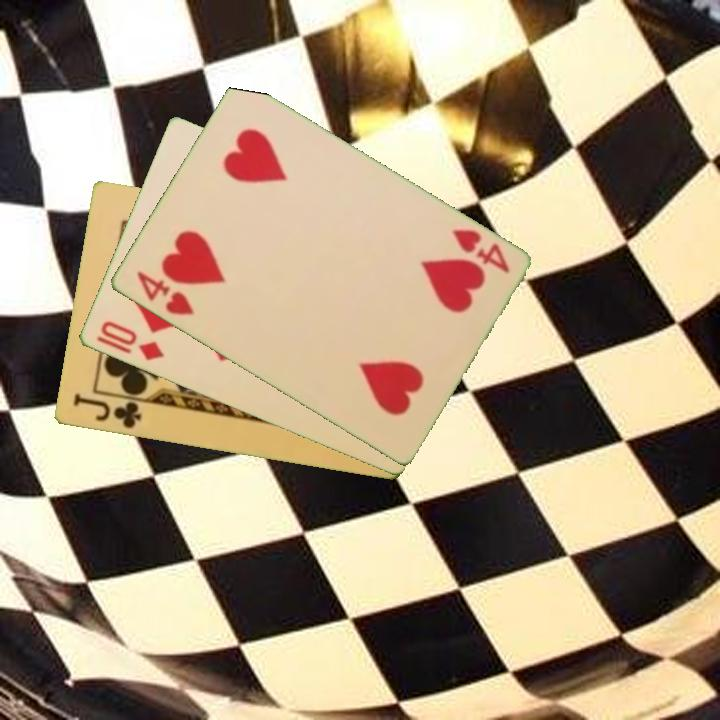10d: (96, 317, 167, 364)
4h: (132, 267, 197, 319), (448, 225, 512, 277)
Jc: (69, 390, 144, 432)
